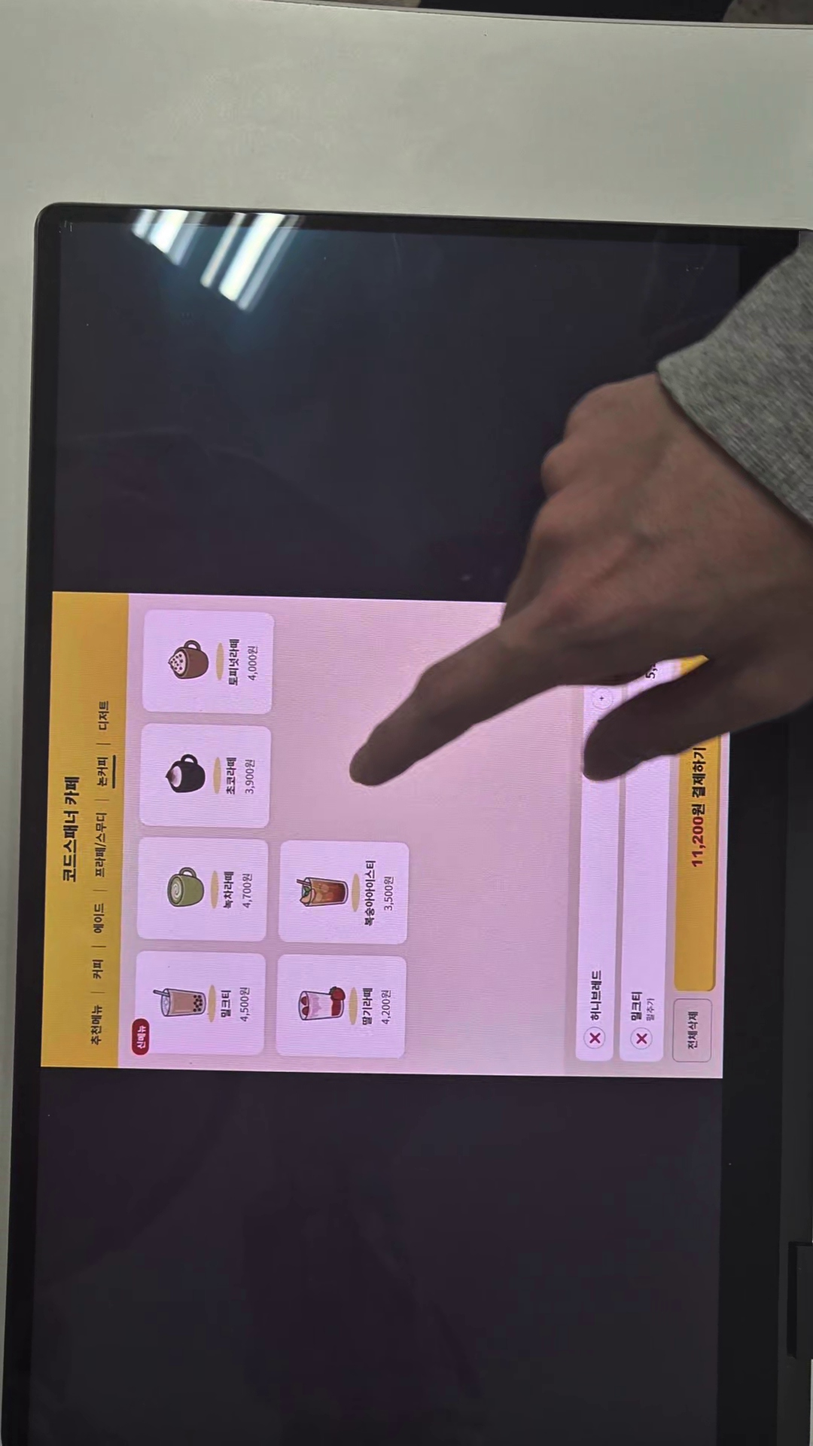action_button: (675, 617, 718, 990), (675, 997, 712, 1060)
cart_item: (620, 617, 668, 1060), (580, 616, 617, 1063)
category_tab: (91, 807, 114, 884), (92, 692, 116, 738), (93, 751, 112, 797), (91, 900, 111, 939), (89, 999, 103, 1049), (90, 954, 109, 986)
menu_back: (140, 720, 268, 831), (142, 606, 271, 715), (278, 953, 407, 1060), (139, 836, 268, 942), (138, 950, 265, 1057), (281, 840, 407, 945)
menu_name: (222, 633, 243, 688), (362, 858, 376, 927), (221, 870, 236, 915), (360, 982, 374, 1030), (224, 751, 237, 801), (220, 987, 232, 1023)
menu_price: (243, 754, 262, 801), (240, 868, 255, 918), (380, 867, 395, 917), (235, 982, 253, 1023), (244, 640, 259, 688), (378, 982, 392, 1028)
